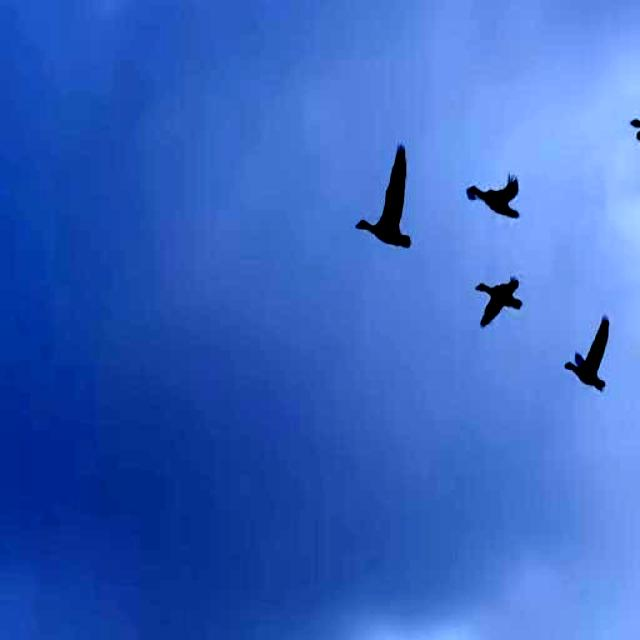airplane: (352, 140, 418, 264), (562, 311, 616, 396), (462, 158, 526, 225), (475, 276, 529, 336)
